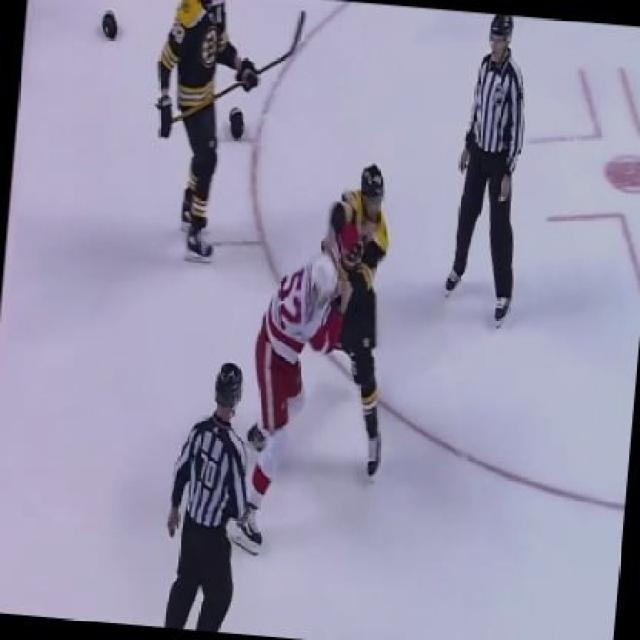fight: (221, 155, 392, 560)
non-fight: (128, 0, 263, 271), (436, 11, 538, 331), (158, 361, 249, 636)
